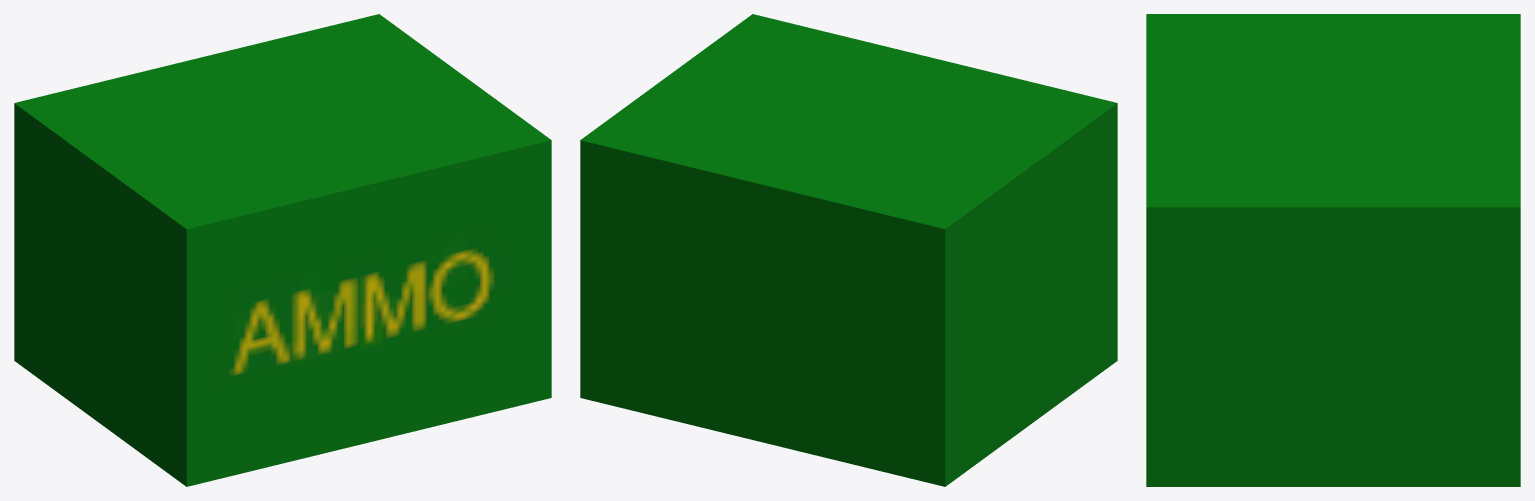
Rendered from ammobox_world.fbx.
3 views of the same model, side by side, from view 1: azimuth 30°, elevation 25°; view 2: azimuth 150°, elevation 25°; view 3: azimuth 270°, elevation 25° (orthographic). The views are drawn at different scales.
Visible parts, largest first — view 1: ammobox; view 2: ammobox; view 3: ammobox.
Boxes of the visible parts, left/top/right/bottom form: ammobox: left=14, top=14, right=551, bottom=486; ammobox: left=580, top=14, right=1117, bottom=486; ammobox: left=1146, top=14, right=1520, bottom=486.
Size of the model in its own units: 9.76 by 6.58 by 7.98.
Materials: 1 (1 with a texture image).
